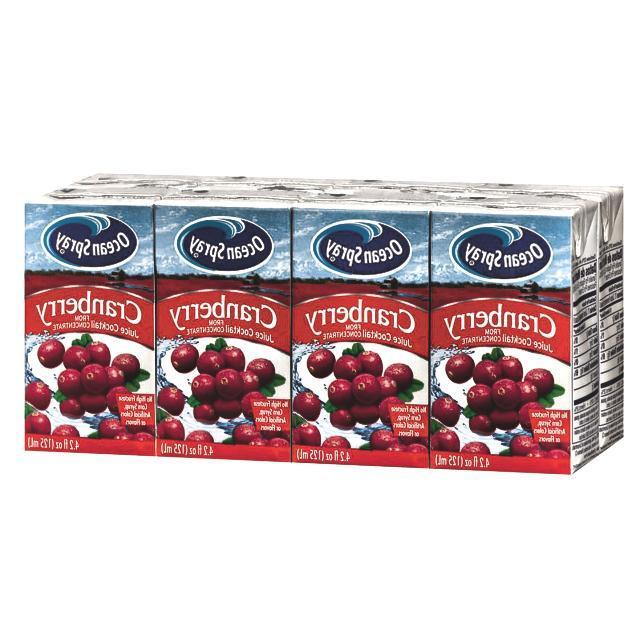cardboard: (23, 173, 624, 474)
